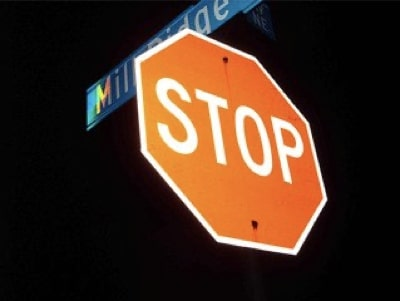StopSign: (133, 27, 330, 258)
